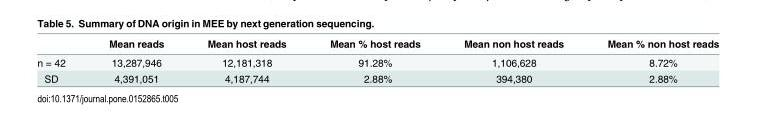table: (36, 37, 718, 83)
table column: (441, 37, 584, 83), (307, 37, 441, 83), (584, 37, 718, 83), (185, 37, 307, 83), (86, 37, 185, 83), (36, 37, 86, 83)
table column header: (36, 37, 718, 52)
table row: (36, 52, 718, 70), (36, 37, 718, 52), (36, 70, 718, 83)
